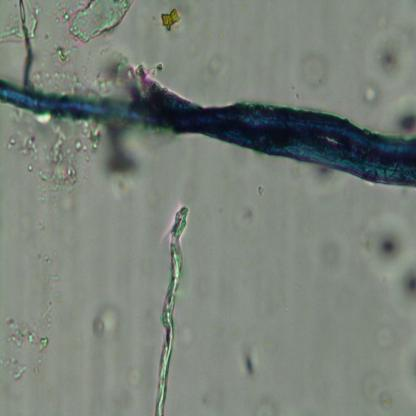Background material: (0, 0, 149, 107), (0, 111, 100, 196), (352, 208, 416, 314), (0, 307, 50, 388), (95, 119, 138, 196), (358, 368, 396, 412), (38, 249, 62, 315), (113, 365, 142, 416), (299, 51, 333, 90), (313, 234, 345, 275), (372, 42, 407, 79), (92, 302, 121, 340), (160, 3, 188, 38), (370, 319, 397, 350), (34, 192, 52, 236), (401, 342, 416, 394), (396, 100, 416, 134), (239, 348, 261, 378), (47, 191, 75, 214), (360, 77, 382, 106), (205, 48, 228, 73), (313, 164, 333, 190), (252, 398, 280, 416), (235, 208, 259, 228), (256, 185, 265, 199)
Cellulose filter fibre: (150, 205, 190, 416)
Cotton: (0, 77, 416, 190)
